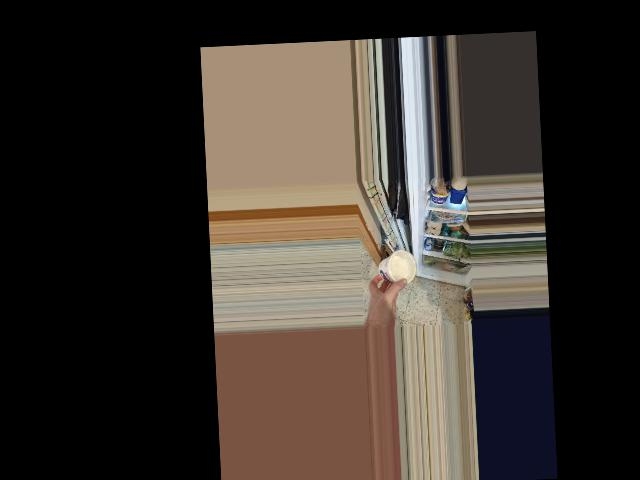cotage: (377, 249, 415, 283)
